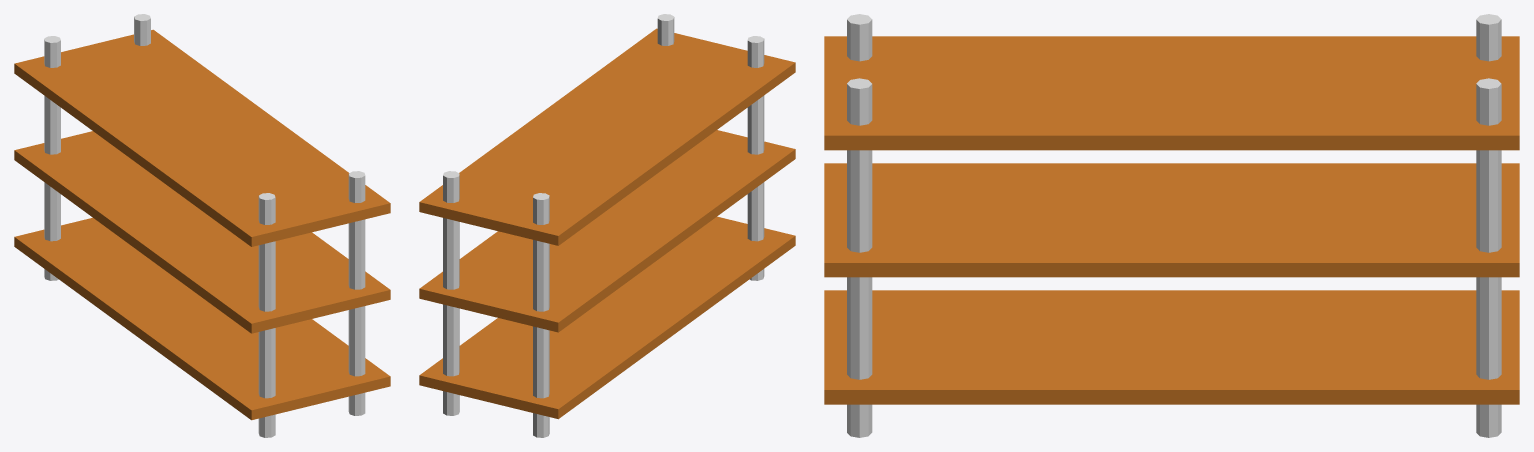
The model's file is Rak 1.fbx.
3 renders of one model, left to right at view 1: azimuth 30°, elevation 25°; view 2: azimuth 150°, elevation 25°; view 3: azimuth 270°, elevation 25°, orthographic. The views are drawn at different scales.
Parts seen in each view (by area): view 1: Plane.007; view 2: Plane.007; view 3: Plane.007.
Part boxes in pixels (bbox=[...]): Plane.007: bbox=[14, 14, 390, 437]; Plane.007: bbox=[419, 14, 795, 437]; Plane.007: bbox=[824, 14, 1519, 437].
Size of the model in its own units: 744 by 1216 by 2196.
